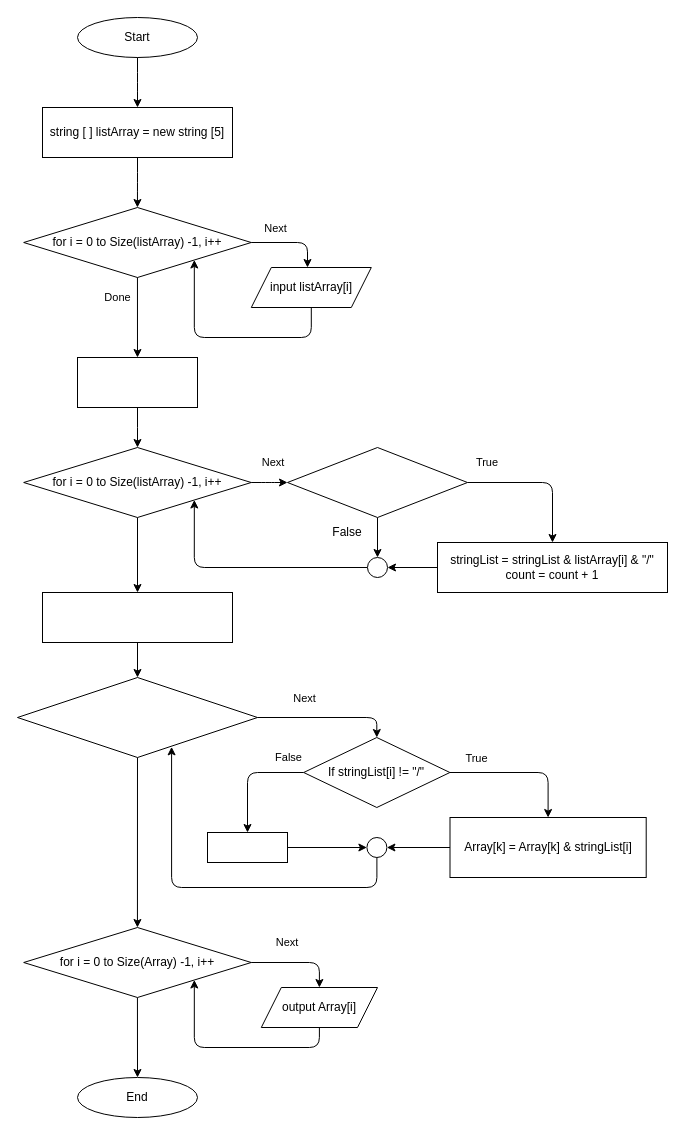
The diagram is 685 pixels wide and 1135 high, and some of its shapes have lost their labels. Here are the shapes that lost their labels. From the top down, the box of each, then its label:
(76, 356, 198, 408): stringList = "" count = 0
(286, 446, 468, 518): If Length(listArray[i]) <= 3
(42, 592, 232, 642): string [ ] Array = new string [count] k = 0
(16, 676, 258, 758): for i = 0 to Length(stringList) -1, i++
(206, 832, 288, 862): k = k + 1
